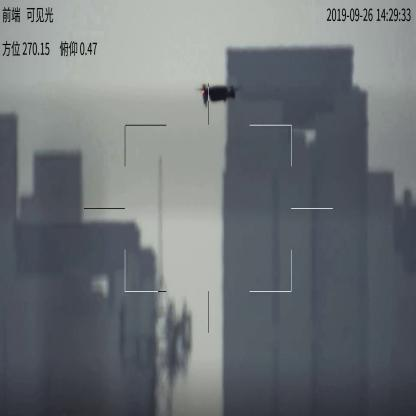uav: (191, 82, 240, 107)
